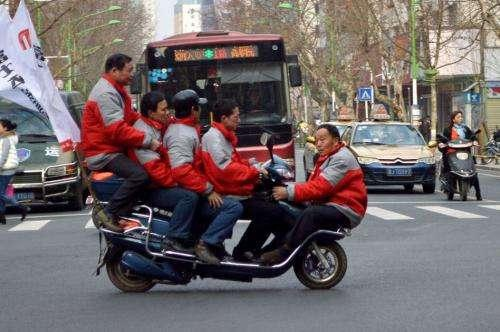non-vehicle: (80, 151, 355, 294), (438, 131, 490, 205)
